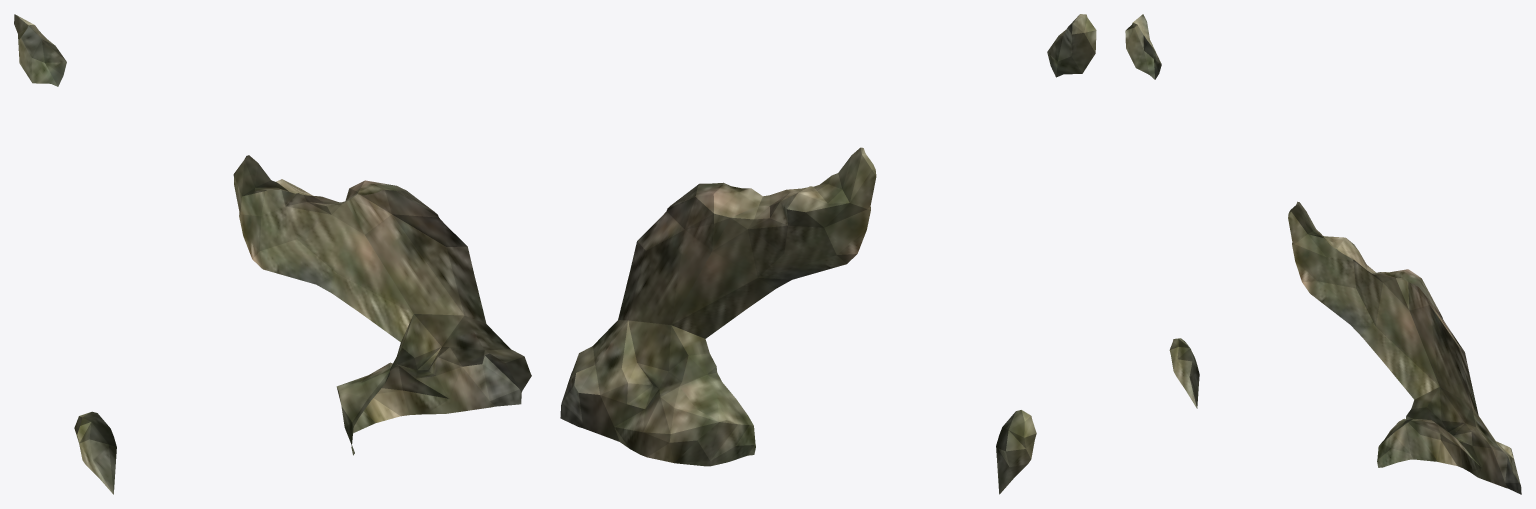
3 views of the same model, side by side, from view 1: azimuth 30°, elevation 25°; view 2: azimuth 150°, elevation 25°; view 3: azimuth 330°, elevation 25° (orthographic). The views are drawn at different scales.
Size of the model in its own units: 2.55 by 2.42 by 0.288.
1 material, 1 textured.
